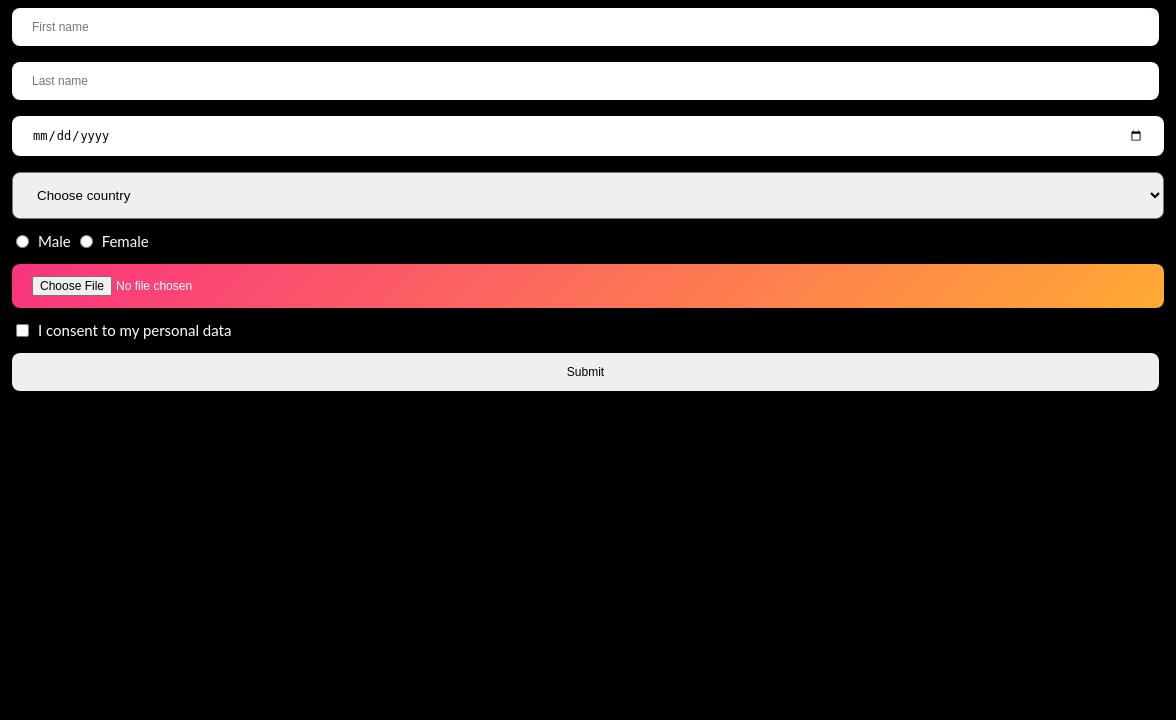
it: Form › should display matching error when firstName and lastname are invalid
Step 1. Type "test first name" into the field with test id "first-name" → (586, 27), box [12, 8, 1159, 46]
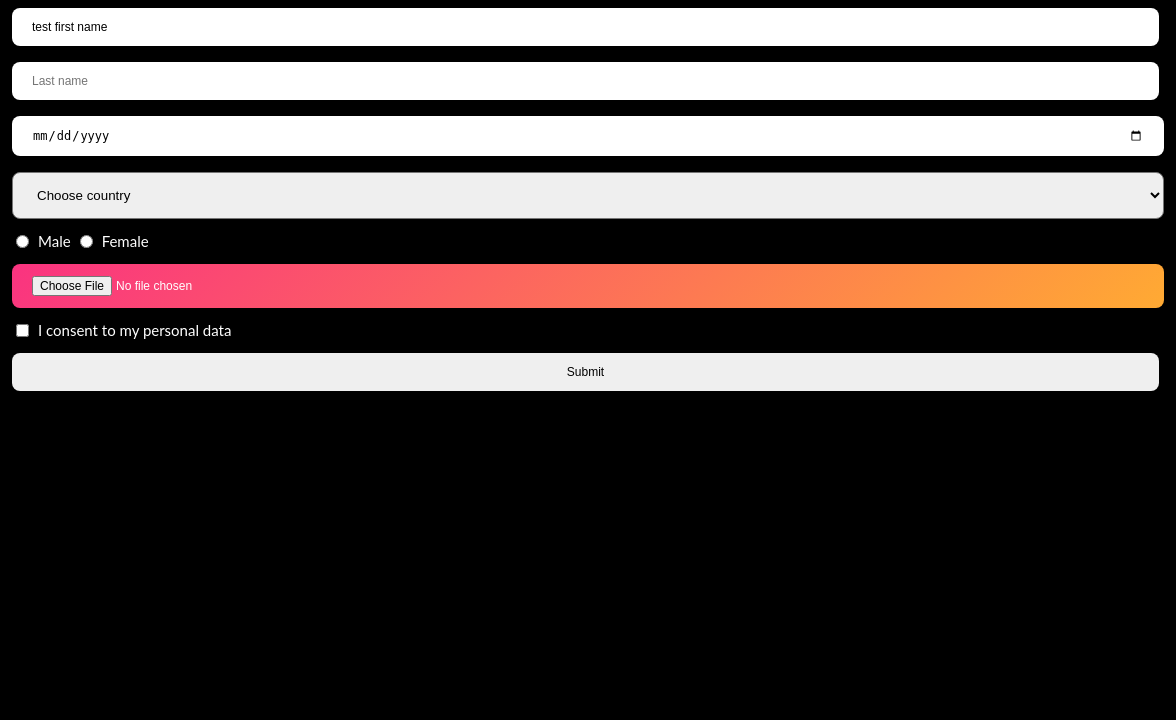
Step 2. Type "test last name" into the field with test id "last-name" → (586, 81), box [12, 62, 1159, 100]
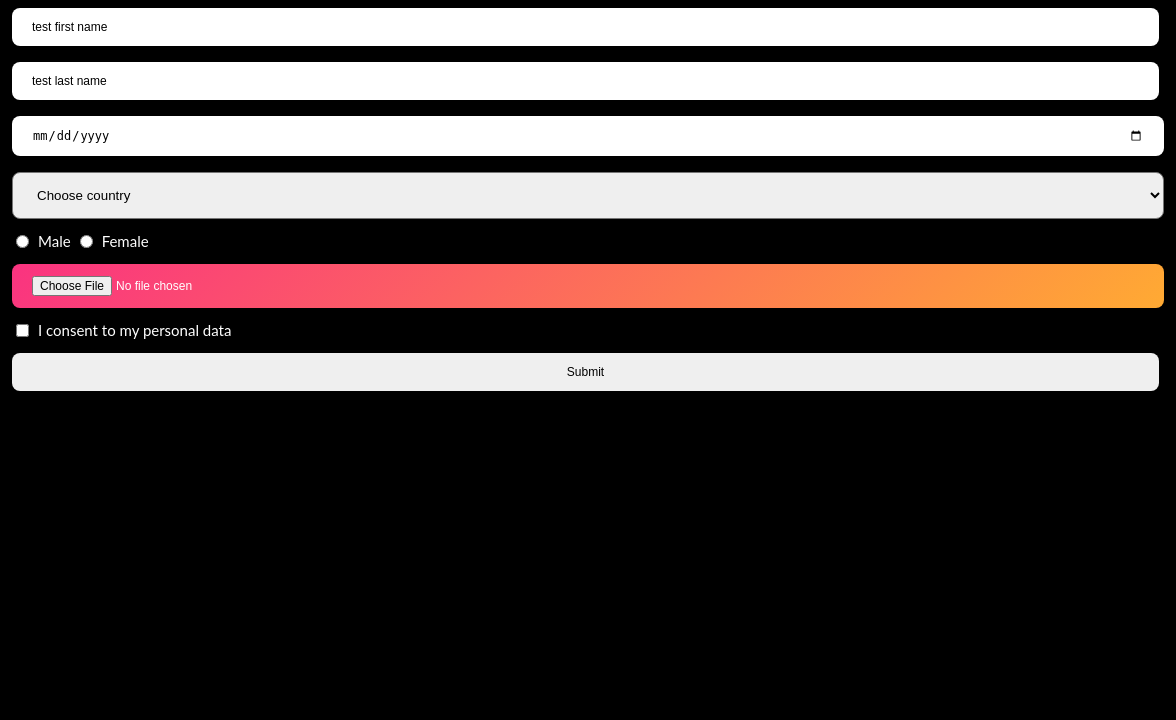
Step 3. Submit the form from the button with test id "submit", box [12, 353, 1159, 391]
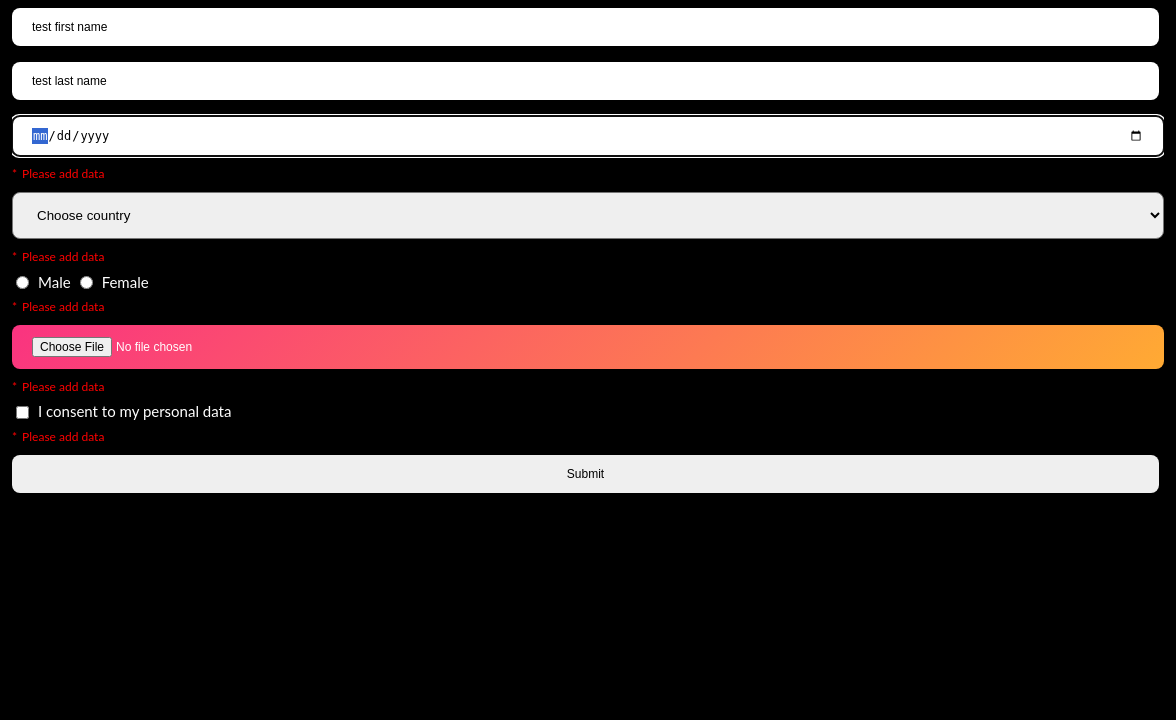
Expected: the text "Please add data" is shown 5 times, [22, 166, 104, 181]; [22, 249, 104, 264]; [22, 299, 104, 314]; [22, 379, 104, 394]; [22, 429, 104, 444]
